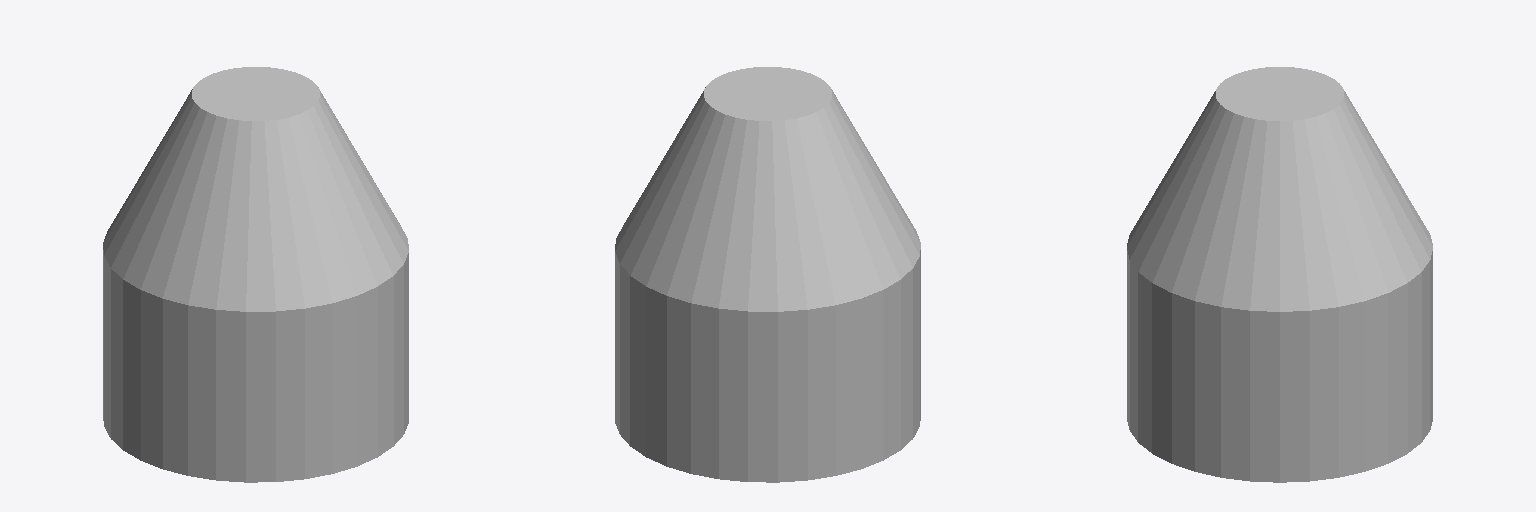
Rendered from thruster.obj.
3 views of the same model, side by side, from view 1: azimuth 30°, elevation 25°; view 2: azimuth 150°, elevation 25°; view 3: azimuth 270°, elevation 25° (orthographic).
Parts seen in each view (by area): view 1: Circle; view 2: Circle; view 3: Circle.
Part boxes in pixels (x1,y1,x2,y2): Circle: (103, 67, 408, 482); Circle: (615, 67, 920, 482); Circle: (1127, 67, 1432, 482).
Bounding box in the file's own units: 2 × 2.33 × 2.